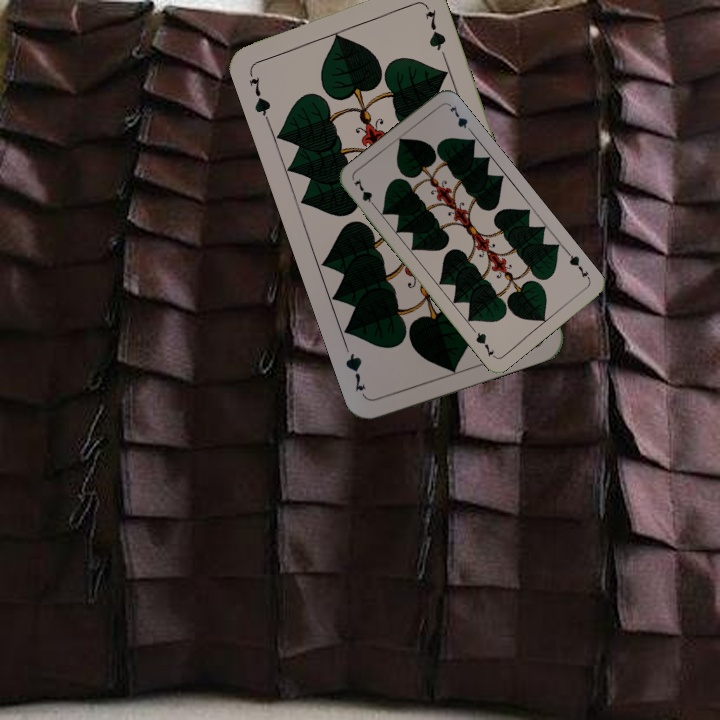G7: (244, 66, 273, 124), (349, 175, 379, 212), (563, 248, 593, 283)
